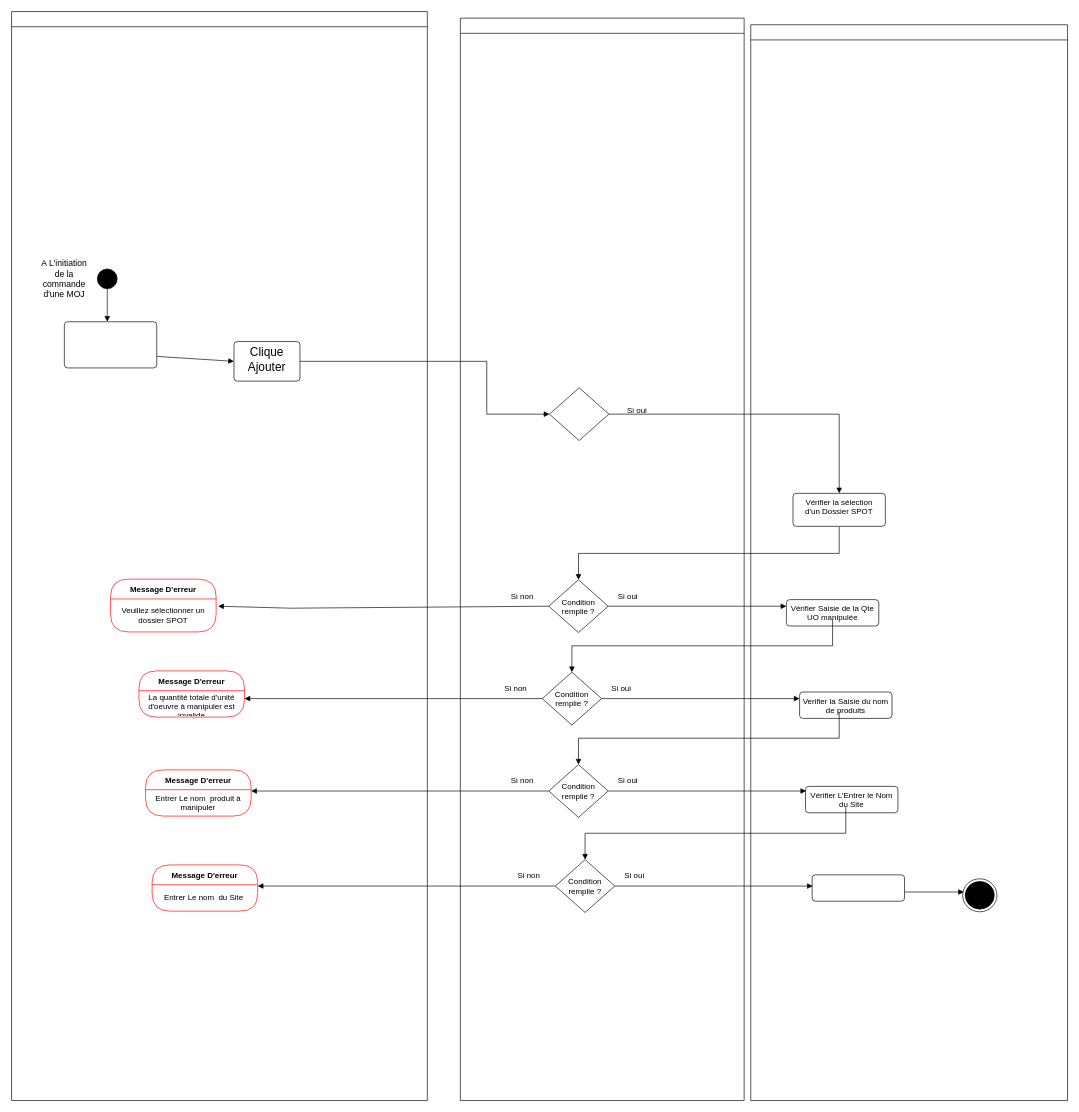
Image size: 1079x1112. Some labels were removed from this diagram. The box of each missing label's shape, as (x1, y1, x2, y2) in pixels:
Action Ajouter ?: (549, 387, 609, 441)
Control: (460, 17, 744, 1101)
Enregistrer La Commande: (811, 874, 905, 901)
Remplir le Formulaire de Commande de la MOJ: (64, 321, 157, 368)
Systeme: (750, 24, 1068, 1101)
UI: (11, 11, 427, 1101)
